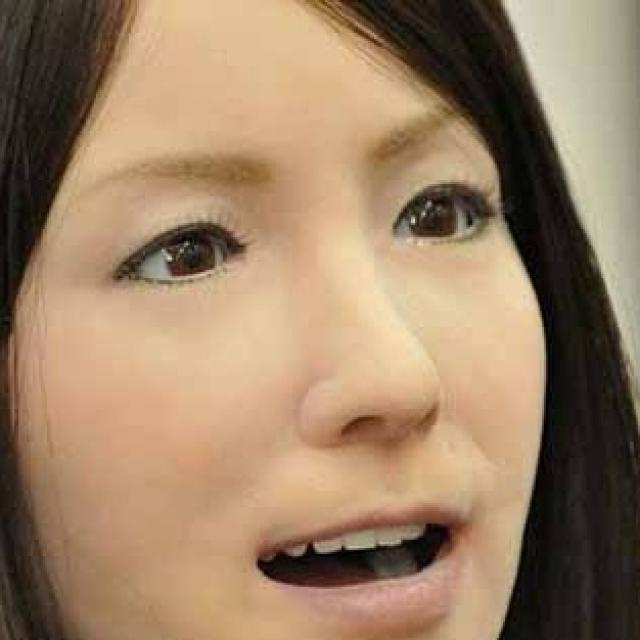Normal: (2, 5, 545, 638)
